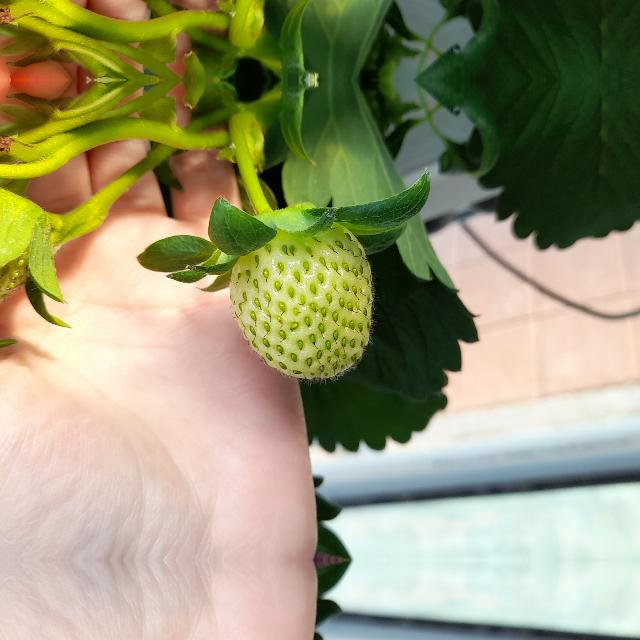Health_25: (228, 221, 372, 379)
